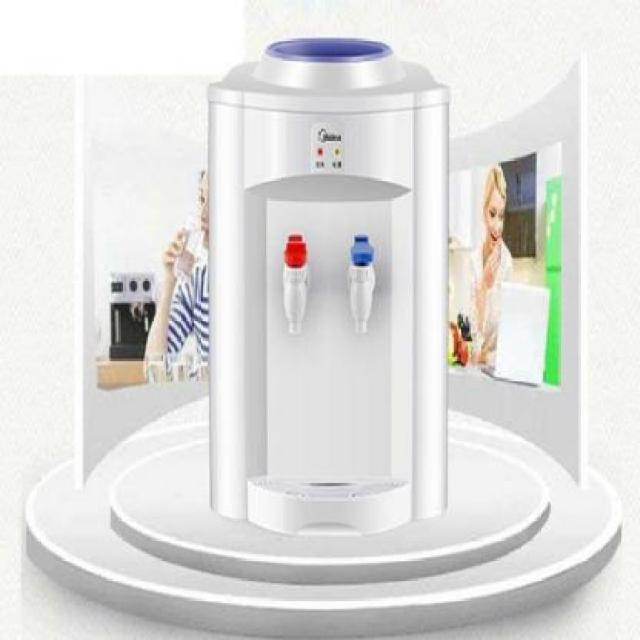cooler: (208, 37, 449, 534)
